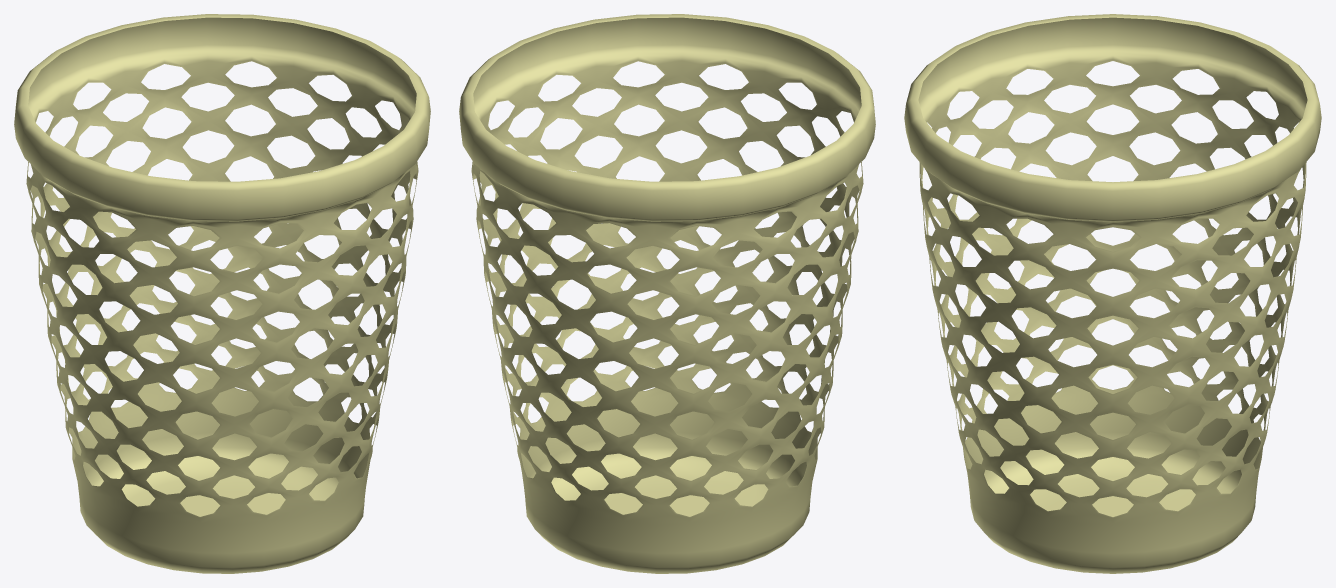
The model's file is dustbin.fbx.
The picture shows the model from 3 angles, left to right: view 1: azimuth 30°, elevation 25°; view 2: azimuth 150°, elevation 25°; view 3: azimuth 270°, elevation 25°; orthographic projection.
Parts seen in each view (by area): view 1: dustbin; view 2: dustbin; view 3: dustbin.
Boxes of the visible parts, x1,y1,x2,y2 form: dustbin: [14, 14, 430, 573]; dustbin: [459, 14, 875, 573]; dustbin: [904, 14, 1321, 573].
Size of the model in its own units: 2.88 by 3.21 by 2.88.
